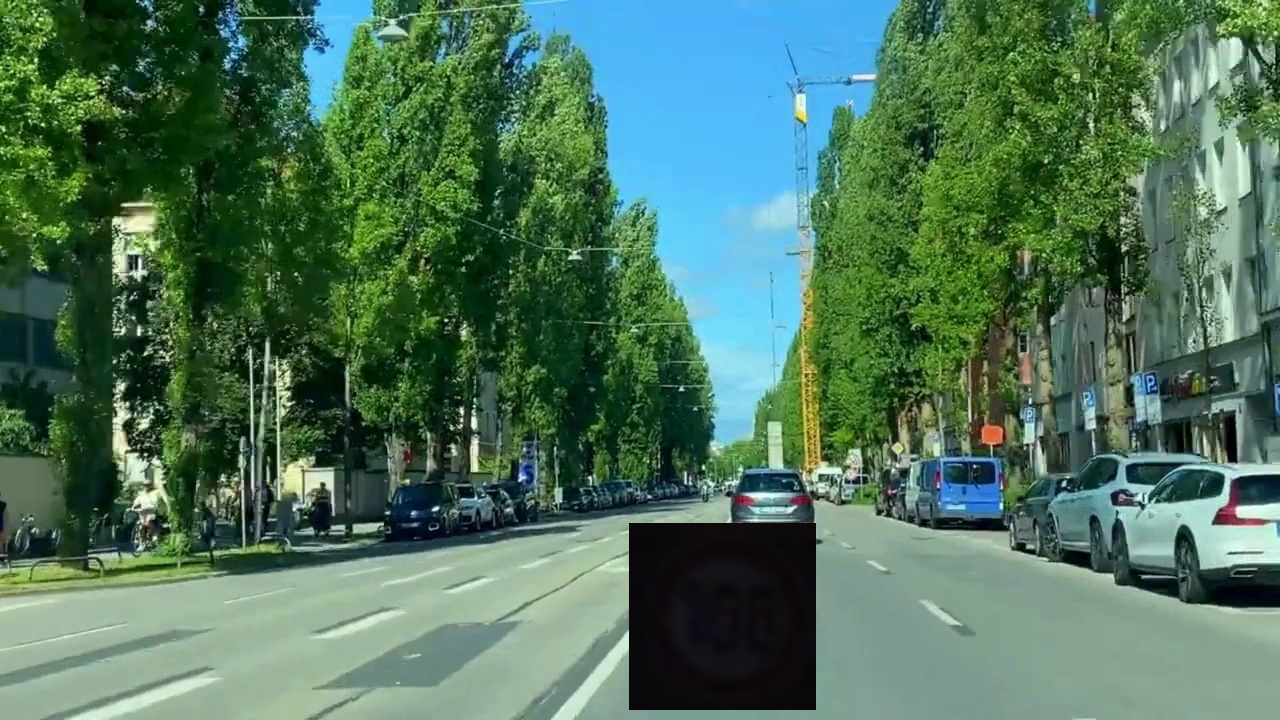Speed 100: (629, 523, 816, 710)
